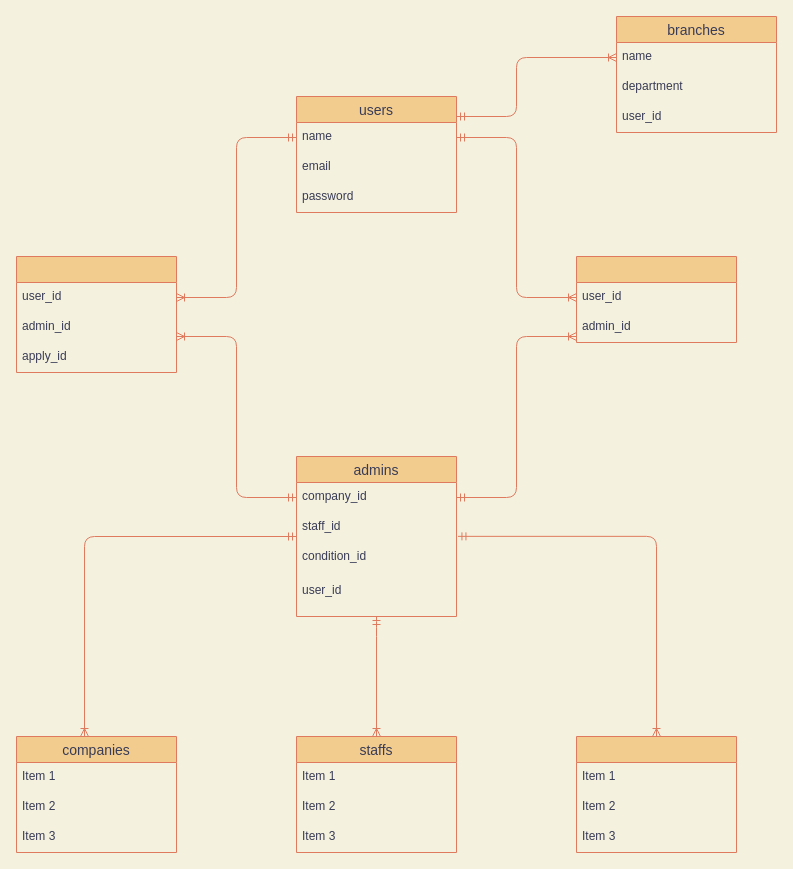
Some shapes in this 793 by 869 pixel diagram are drawn without their labels. Here are the shapes that lost their labels. From the top down, the box of each, then its label:
(16, 256, 176, 372): approvals
(576, 256, 736, 342): applies
(576, 736, 736, 852): conditions
